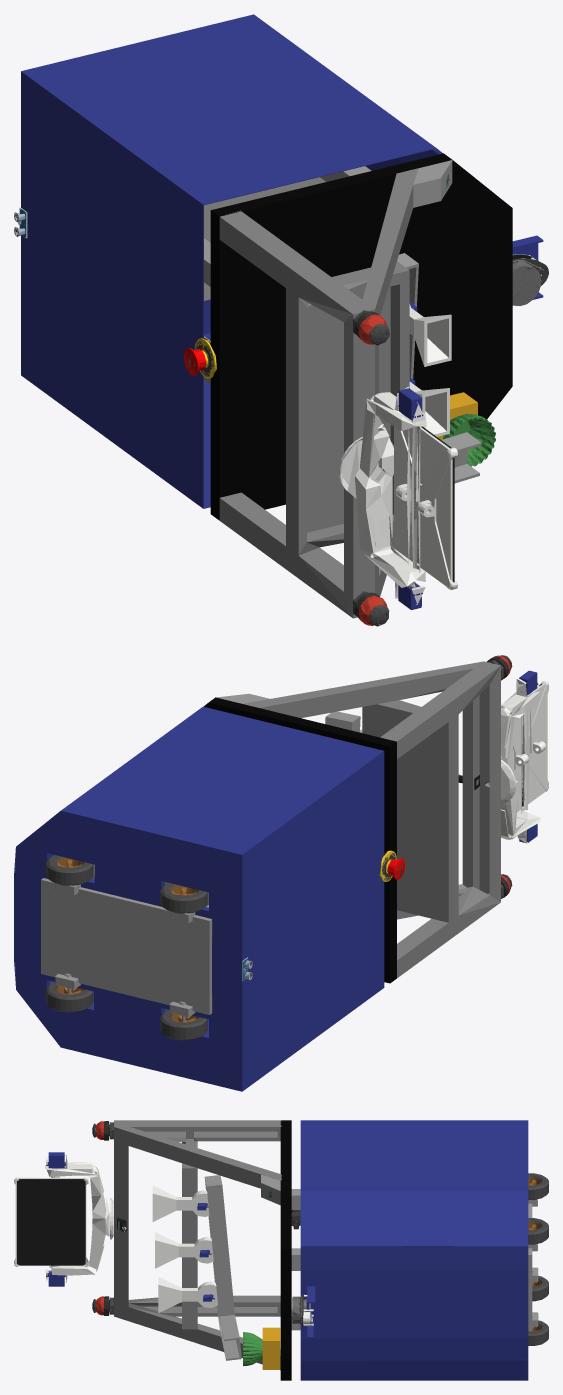
The model's file is scobo.glb.
The picture shows the model from 3 angles, top to bottom: view 1: azimuth 30°, elevation 25°; view 2: azimuth 150°, elevation 25°; view 3: azimuth 270°, elevation 25°; orthographic projection. The views are drawn at different scales.
Parts seen in each view (by area): view 1: body_m3, body_m17, body_m22, tilt_m2, pan_m0, body_m8, body_m13, body_m20, body_m30, pan_m1, body_m21, body_m26; view 2: body_m3, body_m22, body_m8, body_m17, tilt_m2, pan_m0, wheel_fl_m0, wheel_rl_m0, wheel_rr_m0, wheel_fr_m0, body_m13; view 3: body_m3, body_m22, tilt_m0, body_m8, body_m13, body_m17, pan_m0, body_m27, body_m20, tilt_m2, pan_m1, wheel_rl_m0 (+2 smaller).
Part boxes in pixels (x1,y1,x2,y2): body_m3: (21, 14, 543, 508); body_m17: (210, 153, 512, 520); body_m22: (219, 168, 418, 618); tilt_m2: (391, 426, 457, 589); pan_m0: (347, 386, 426, 604); body_m8: (204, 160, 481, 483); body_m13: (339, 180, 451, 491); body_m20: (443, 413, 495, 466); body_m30: (512, 261, 540, 305); pan_m1: (398, 388, 423, 609); body_m21: (353, 310, 389, 626); body_m26: (358, 314, 387, 625); body_m3: (14, 706, 384, 1091); body_m22: (243, 661, 500, 978); body_m8: (41, 693, 360, 1021); body_m17: (204, 697, 396, 983); tilt_m2: (511, 681, 548, 813); pan_m0: (501, 678, 540, 843); wheel_fl_m0: (46, 855, 93, 885); wheel_rl_m0: (160, 883, 207, 913); wheel_rr_m0: (160, 1009, 207, 1040); wheel_fr_m0: (46, 982, 93, 1012); body_m13: (360, 729, 515, 804); body_m3: (197, 1120, 528, 1380); body_m22: (114, 1120, 281, 1370); tilt_m0: (17, 1179, 85, 1265); body_m8: (204, 1174, 538, 1360); body_m13: (110, 1185, 269, 1313); body_m17: (280, 1120, 311, 1380); pan_m0: (45, 1155, 109, 1282); body_m27: (262, 1327, 280, 1369); body_m20: (243, 1332, 262, 1366); tilt_m2: (14, 1176, 88, 1266); pan_m1: (46, 1152, 65, 1286); wheel_rl_m0: (528, 1173, 548, 1199).
Bounding box in the file's own units: 0.6635 × 0.5396 × 1.36.
